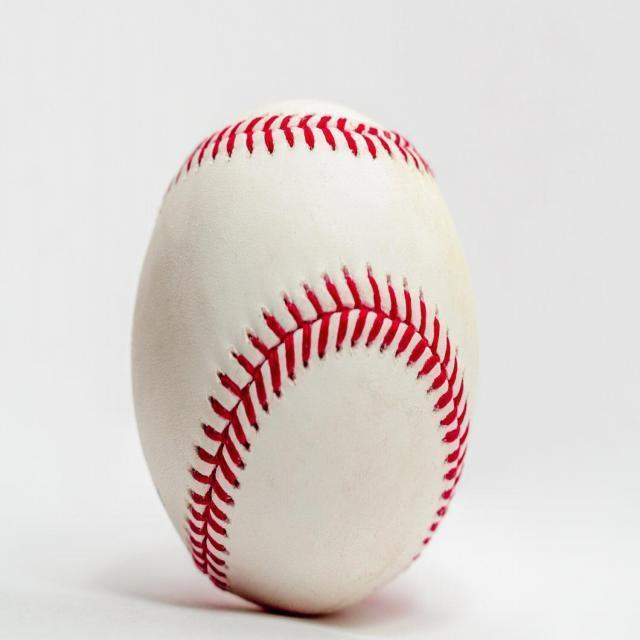ball: (129, 98, 479, 618)
